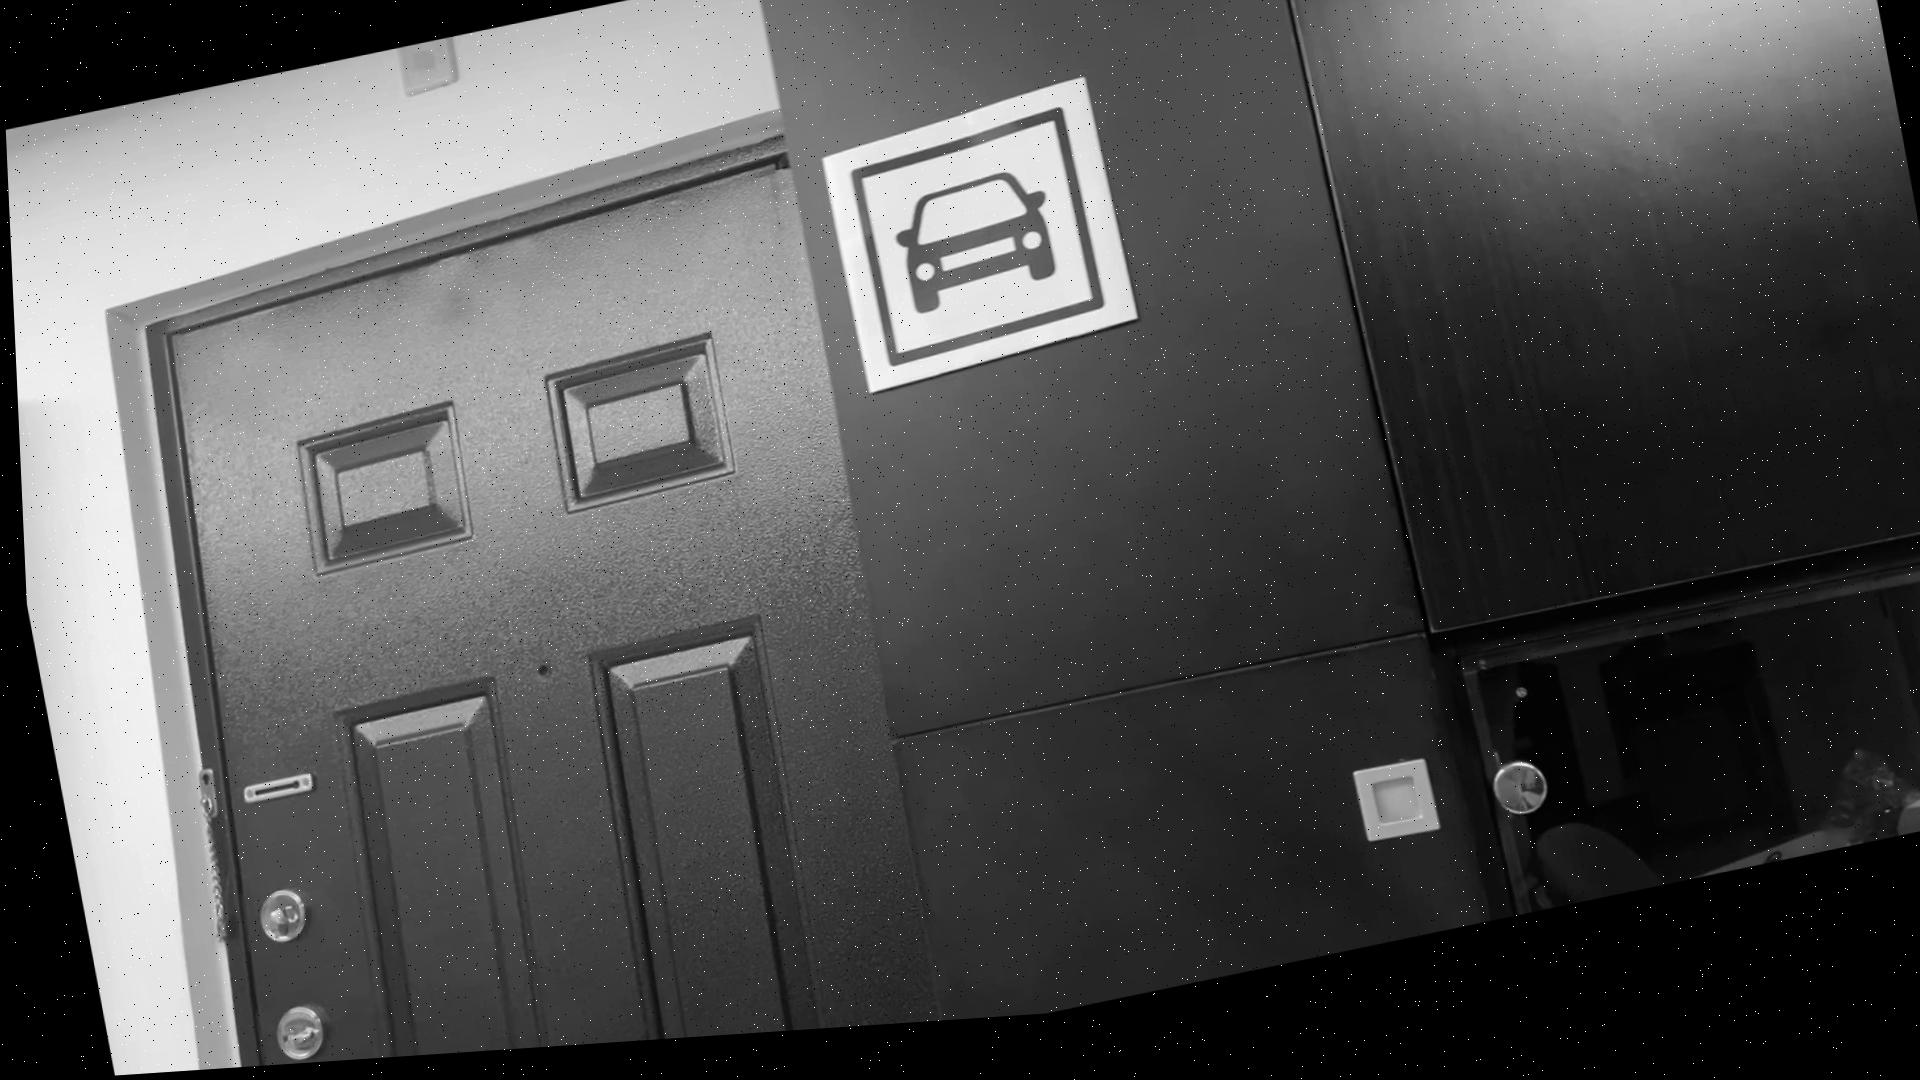car_img: (835, 111, 1110, 390)
